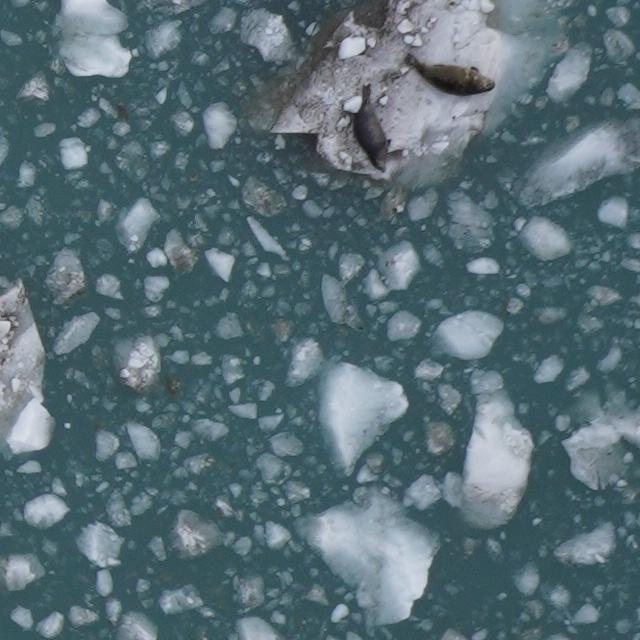seal: (401, 51, 499, 99), (348, 81, 395, 176)
